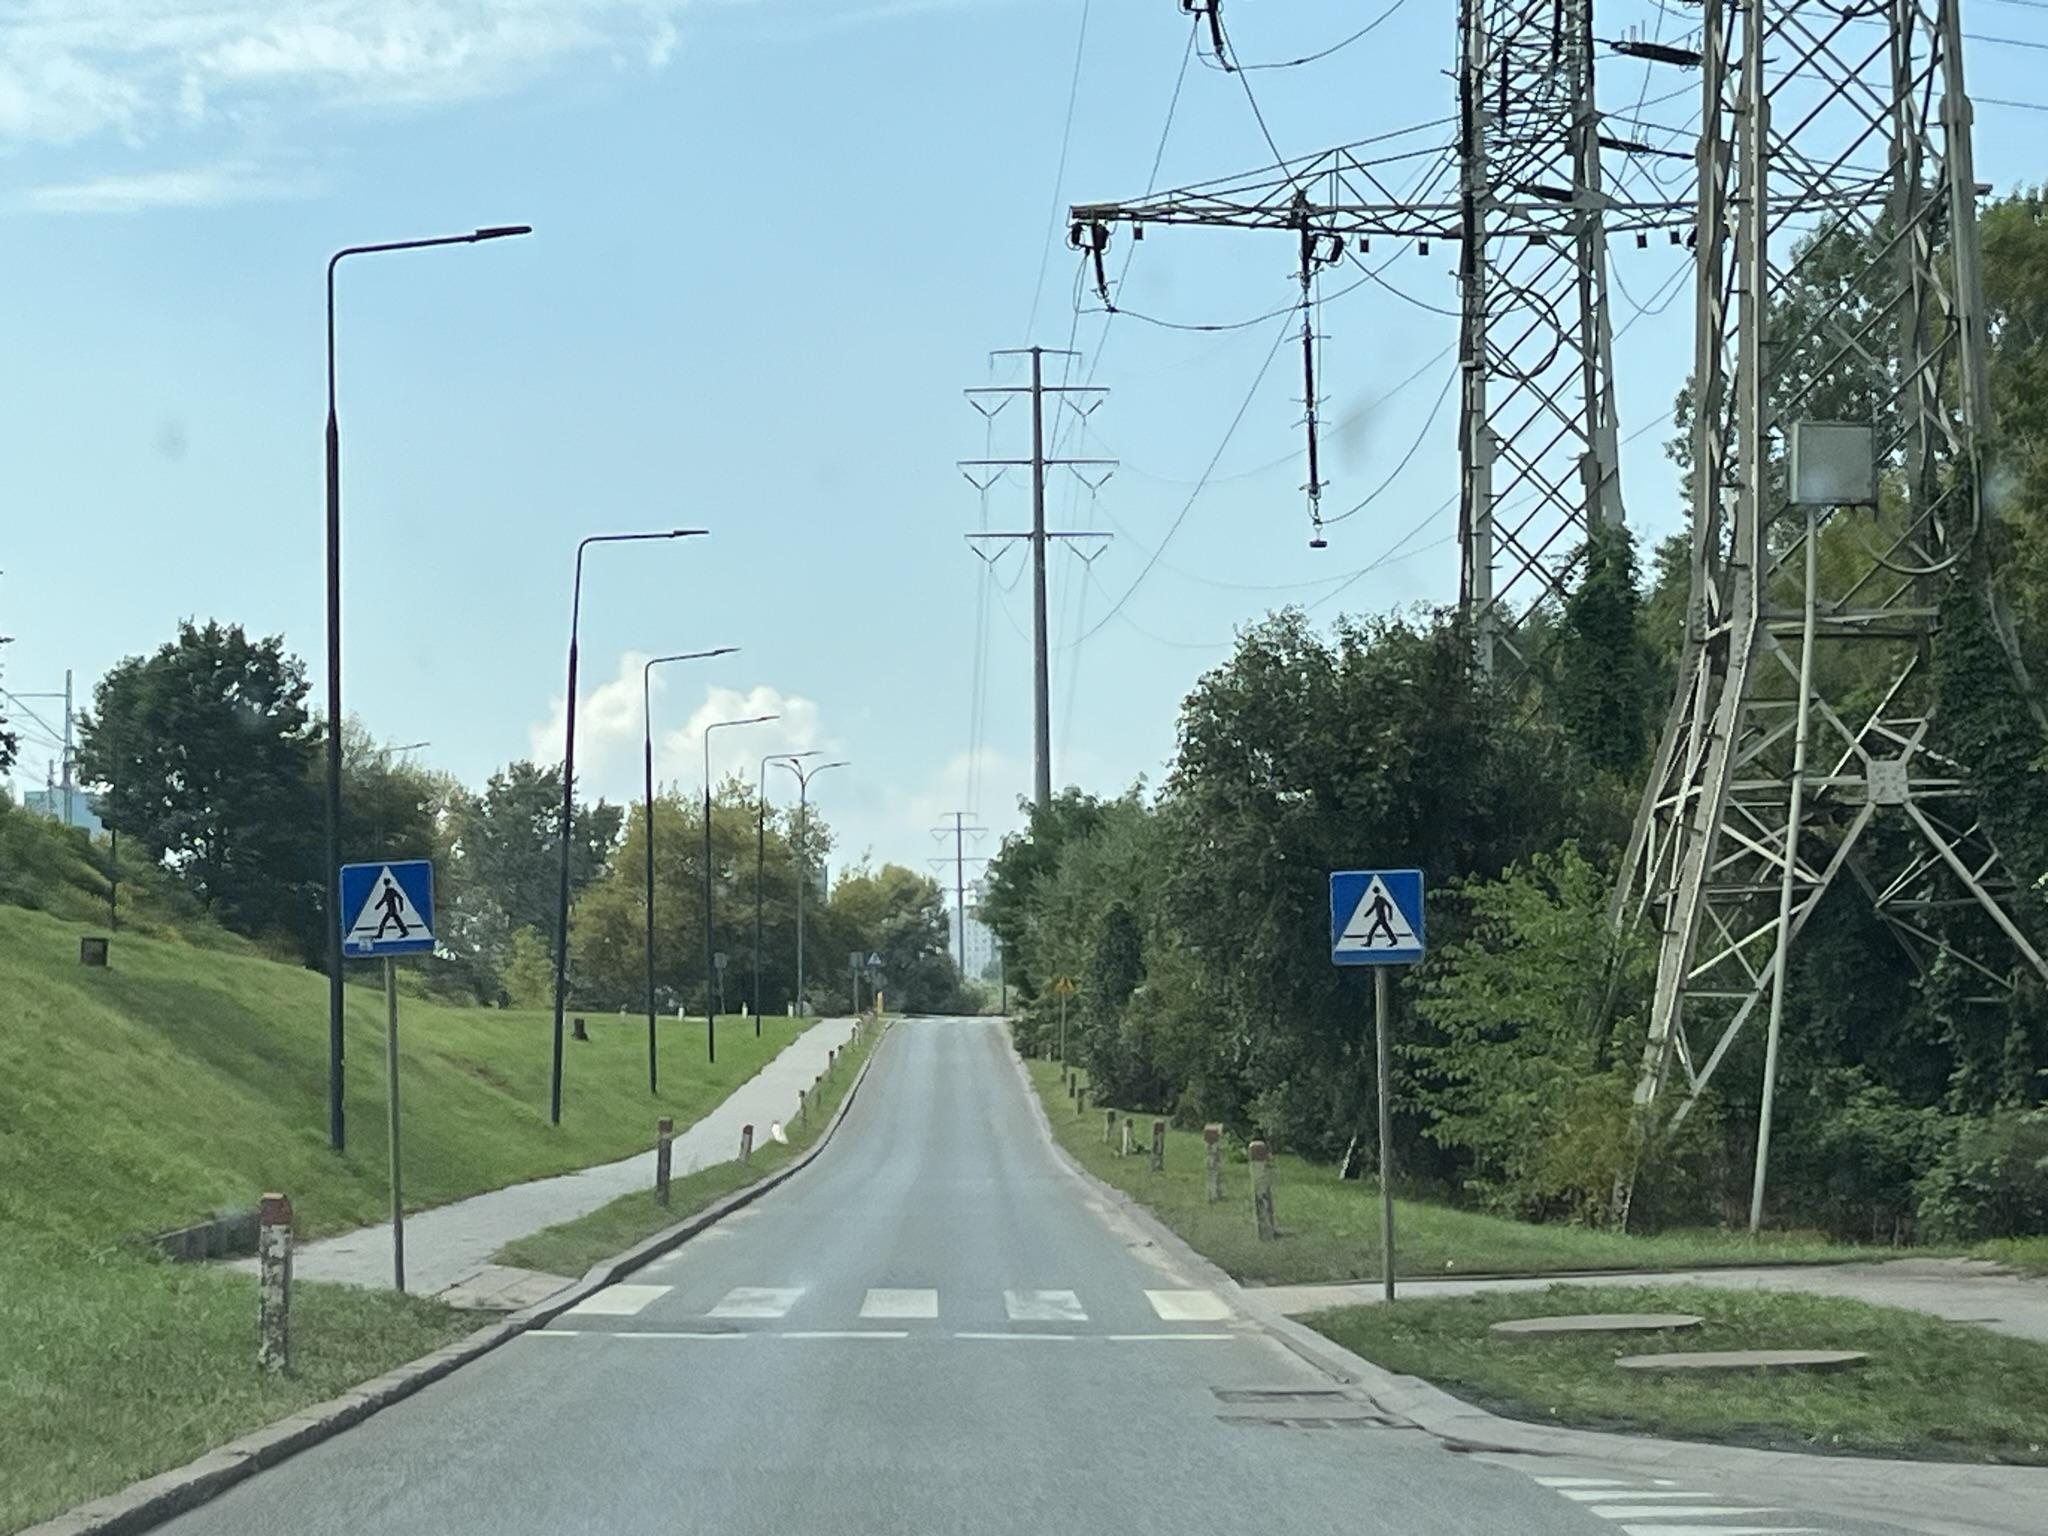information: (1332, 873, 1422, 962), (342, 866, 431, 950)
